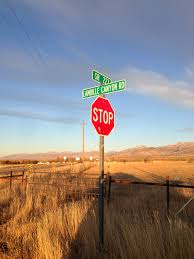stop_sign: (90, 96, 116, 138)
